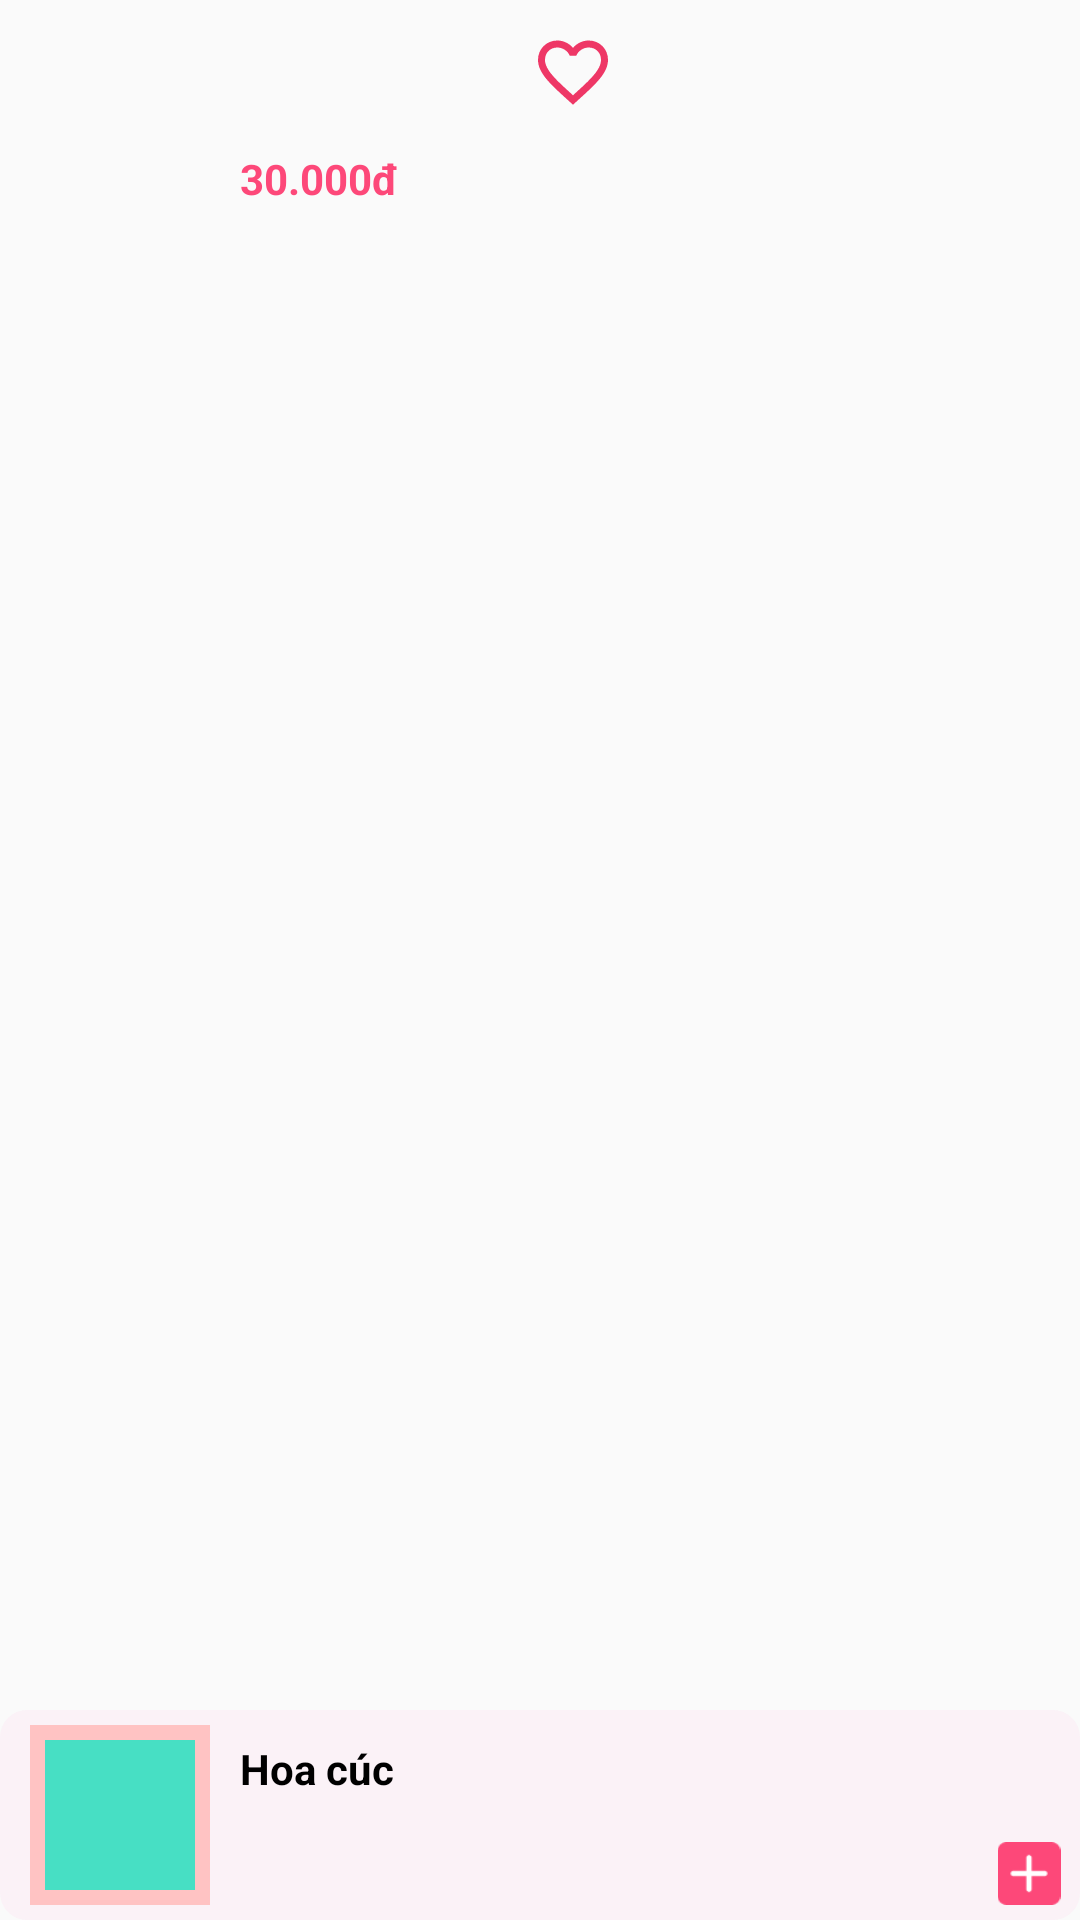

Screen size 1080×1920. Icon name, then its center in pixels as [x,y]:
favourite: [573,72]
